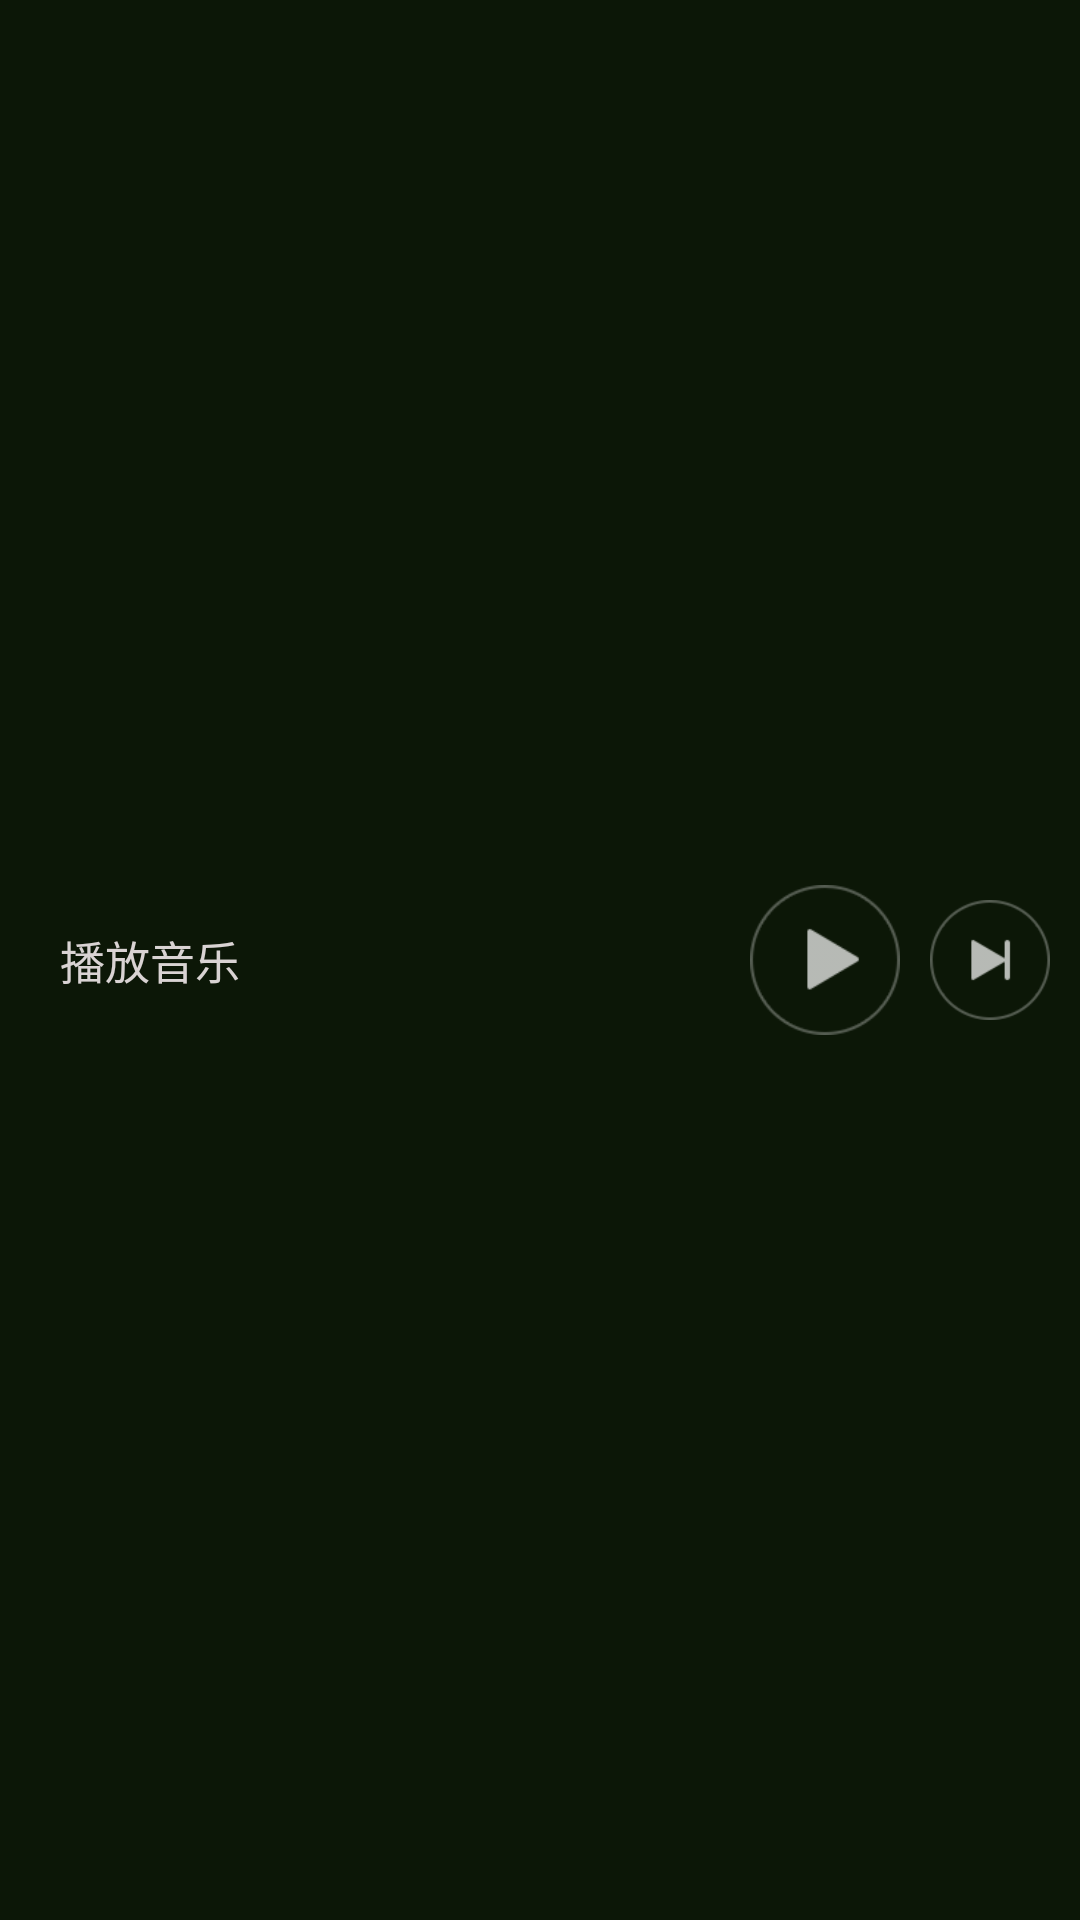

Icon click points for this 1080px×1920px phone screenshot, format point (x, y):
bottom play bar: point (825, 960)
bottom play bar next: point (990, 960)
